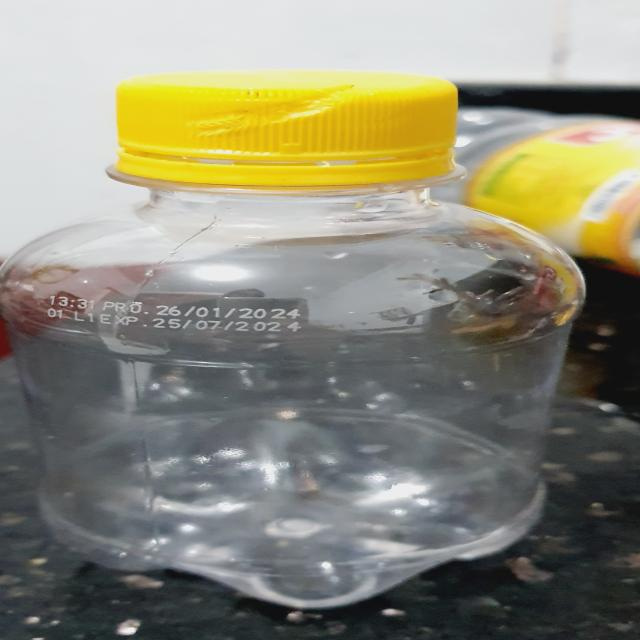plastic: (0, 71, 585, 623)
